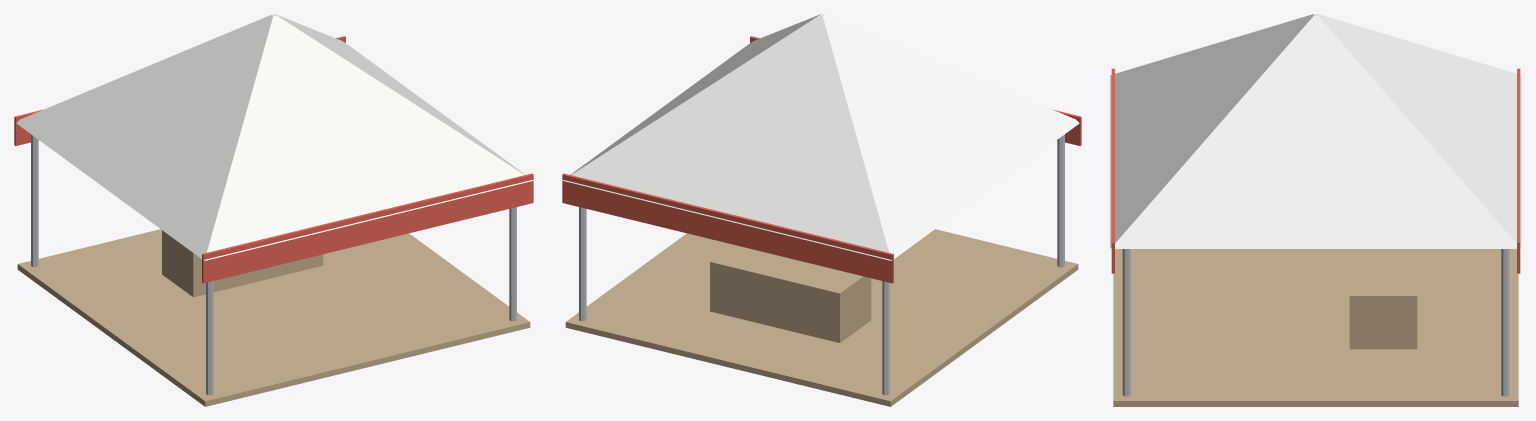
File: festival_tent.glb
3 views of the same model, side by side, from view 1: azimuth 30°, elevation 25°; view 2: azimuth 150°, elevation 25°; view 3: azimuth 270°, elevation 25° (orthographic). The views are drawn at different scales.
Parts seen in each view (by area): view 1: festival_tent; view 2: festival_tent; view 3: festival_tent.
Boxes of the visible parts, box(x1,y1,x2,y2) form: festival_tent: box(14, 14, 533, 406); festival_tent: box(562, 14, 1081, 406); festival_tent: box(1110, 14, 1521, 406).
Bounding box in the file's own units: 6.1 × 5 × 6.08.
